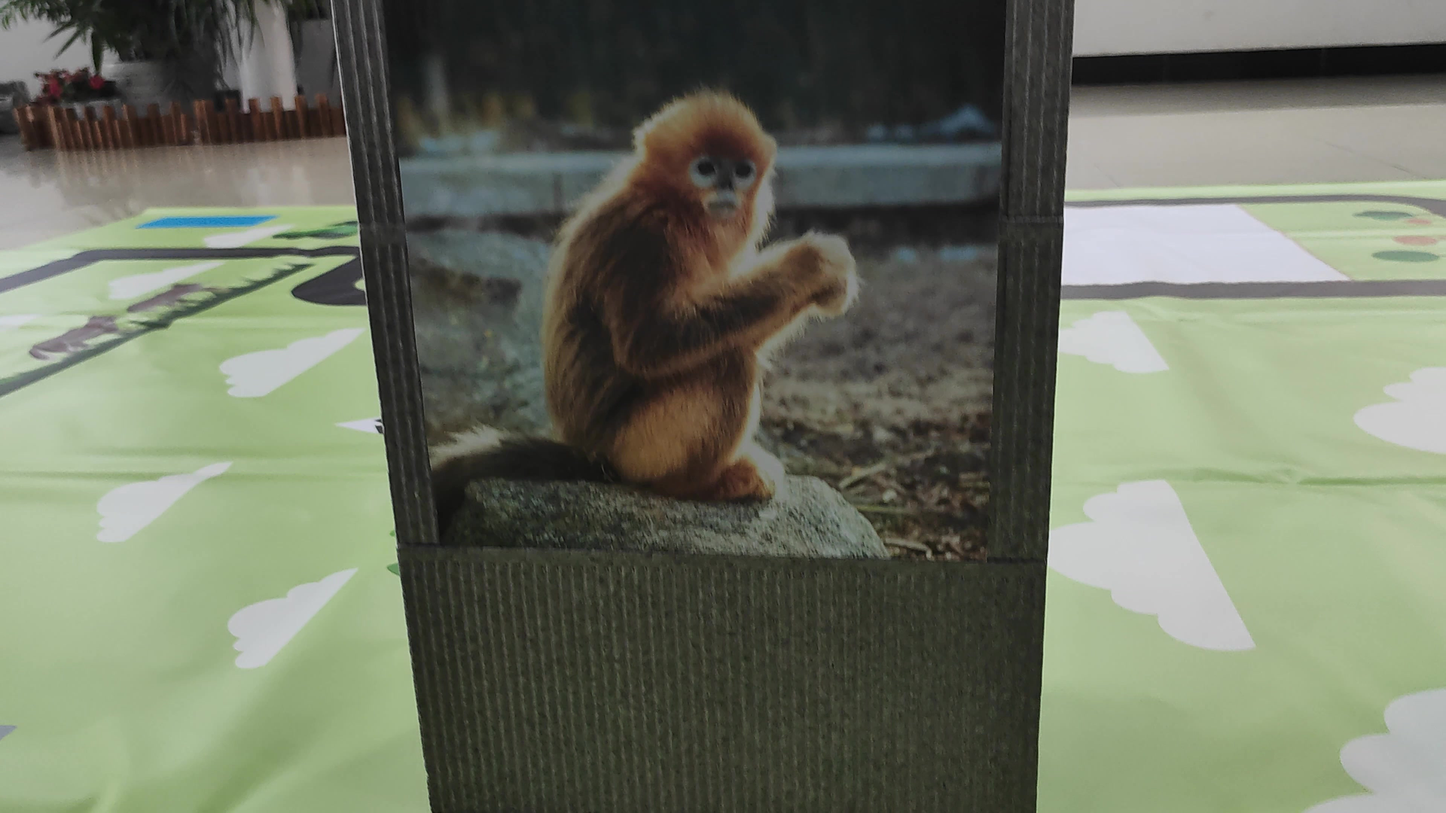monkey: (483, 32, 935, 525)
